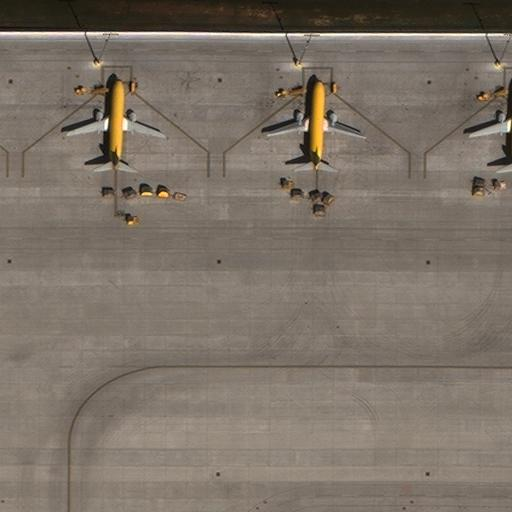Medium Civil Transport: (66, 74, 167, 170), (266, 76, 366, 170), (469, 85, 511, 167)
